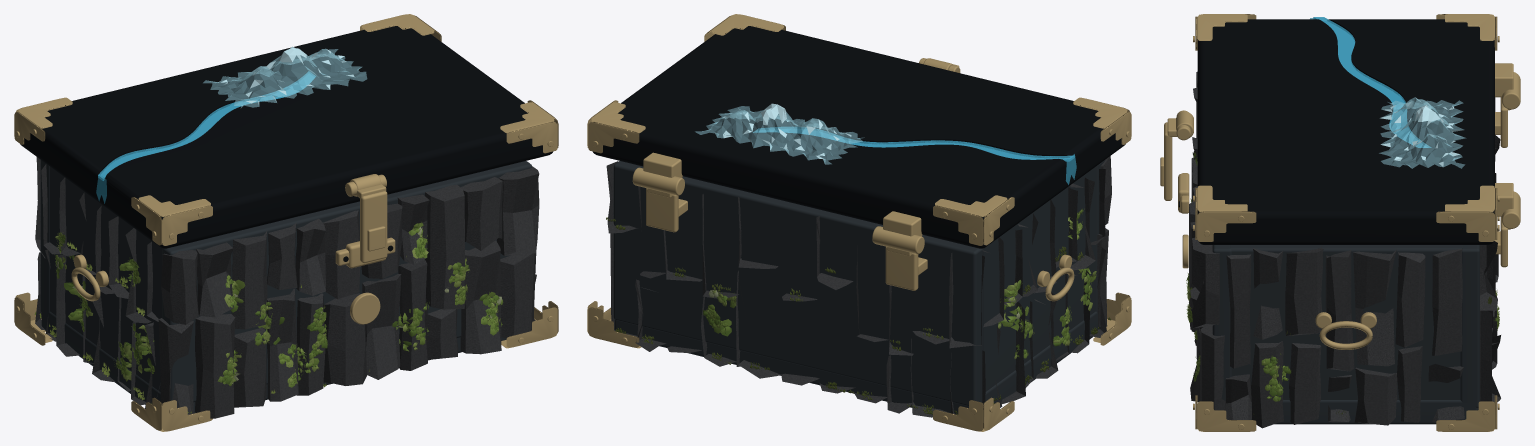
File: approved-v7.glb
The picture shows the model from 3 angles, left to right: view 1: azimuth 30°, elevation 25°; view 2: azimuth 150°, elevation 25°; view 3: azimuth 270°, elevation 25°; orthographic projection. The views are drawn at different scales.
Visible parts, largest first — view 1: Lid / polished slab, Interior wall / end, Interior wall / front, Glacier / asymmetric raised ice ridge, Basalt fracture / front.017, Basalt fracture / front.002, Basalt fracture / front.018, Basalt fracture / front.010, Basalt fracture / front.021, Basalt fracture / front.012, Basalt fracture / front.005, Basalt fracture / front.006 (+44 smaller); view 2: Lid / polished slab, Interior wall / rear, Interior wall / end, Interior floor, Glacier / asymmetric raised ice ridge, River / inset organic blue, Hinge / fixed mount, Hinge / fixed mount.001, Corner strap / wrapped y.007, Corner strap / wrapped y.002, Corner strap / wrapped y.006, Corner strap / wrapped y.003 (+26 smaller); view 3: Lid / polished slab, Interior wall / end.001, Glacier / asymmetric raised ice ridge, Basalt fracture / right.009, Basalt fracture / right.013, Basalt fracture / right.005, Interior wall / rear, Basalt fracture / right.007, Basalt fracture / right.011, Basalt fracture / right.001, Basalt fracture / right.004, Basalt fracture / right.008 (+33 smaller).
Boxes of the visible parts, x1=… form: Lid / polished slab: x1=20, y1=26, x2=553, y2=248; Interior wall / end: x1=50, y1=166, x2=161, y2=391; Interior wall / front: x1=162, y1=161, x2=532, y2=402; Glacier / asymmetric raised ice ridge: x1=203, y1=46, x2=367, y2=107; Basalt fracture / front.017: x1=425, y1=184, x2=465, y2=309; Basalt fracture / front.002: x1=195, y1=314, x2=235, y2=418; Basalt fracture / front.018: x1=460, y1=240, x2=501, y2=354; Basalt fracture / front.010: x1=323, y1=293, x2=366, y2=385; Basalt fracture / front.021: x1=497, y1=164, x2=539, y2=255; Basalt fracture / front.012: x1=362, y1=274, x2=401, y2=379; Basalt fracture / front.005: x1=231, y1=230, x2=267, y2=329; Basalt fracture / front.006: x1=266, y1=289, x2=298, y2=401; Lid / polished slab: x1=592, y1=26, x2=1125, y2=248; Interior wall / rear: x1=613, y1=161, x2=983, y2=406; Interior wall / end: x1=984, y1=166, x2=1095, y2=391; Interior floor: x1=614, y1=311, x2=1099, y2=414; Glacier / asymmetric raised ice ridge: x1=695, y1=103, x2=864, y2=164; River / inset organic blue: x1=753, y1=127, x2=1074, y2=161; Hinge / fixed mount: x1=885, y1=246, x2=918, y2=290; Hinge / fixed mount.001: x1=646, y1=188, x2=678, y2=232; Corner strap / wrapped y.007: x1=588, y1=307, x2=639, y2=347; Corner strap / wrapped y.002: x1=933, y1=205, x2=983, y2=245; Corner strap / wrapped y.006: x1=588, y1=122, x2=639, y2=153; Corner strap / wrapped y.003: x1=933, y1=400, x2=983, y2=431; Lid / polished slab: x1=1197, y1=19, x2=1494, y2=244; Interior wall / end.001: x1=1230, y1=245, x2=1462, y2=399; Glacier / asymmetric raised ice ridge: x1=1379, y1=97, x2=1465, y2=168; Basalt fracture / right.009: x1=1353, y1=249, x2=1396, y2=366; Basalt fracture / right.013: x1=1432, y1=249, x2=1462, y2=355; Basalt fracture / right.005: x1=1285, y1=245, x2=1323, y2=335; Interior wall / rear: x1=1460, y1=245, x2=1479, y2=407; Basalt fracture / right.007: x1=1325, y1=250, x2=1354, y2=371; Basalt fracture / right.011: x1=1395, y1=252, x2=1425, y2=347; Basalt fracture / right.001: x1=1226, y1=254, x2=1251, y2=368; Basalt fracture / right.004: x1=1289, y1=343, x2=1321, y2=424; Basalt fracture / right.008: x1=1354, y1=367, x2=1397, y2=425.
Size of the model in its own units: 3.83 by 2.22 by 2.88.
19 materials, 5 textured.
